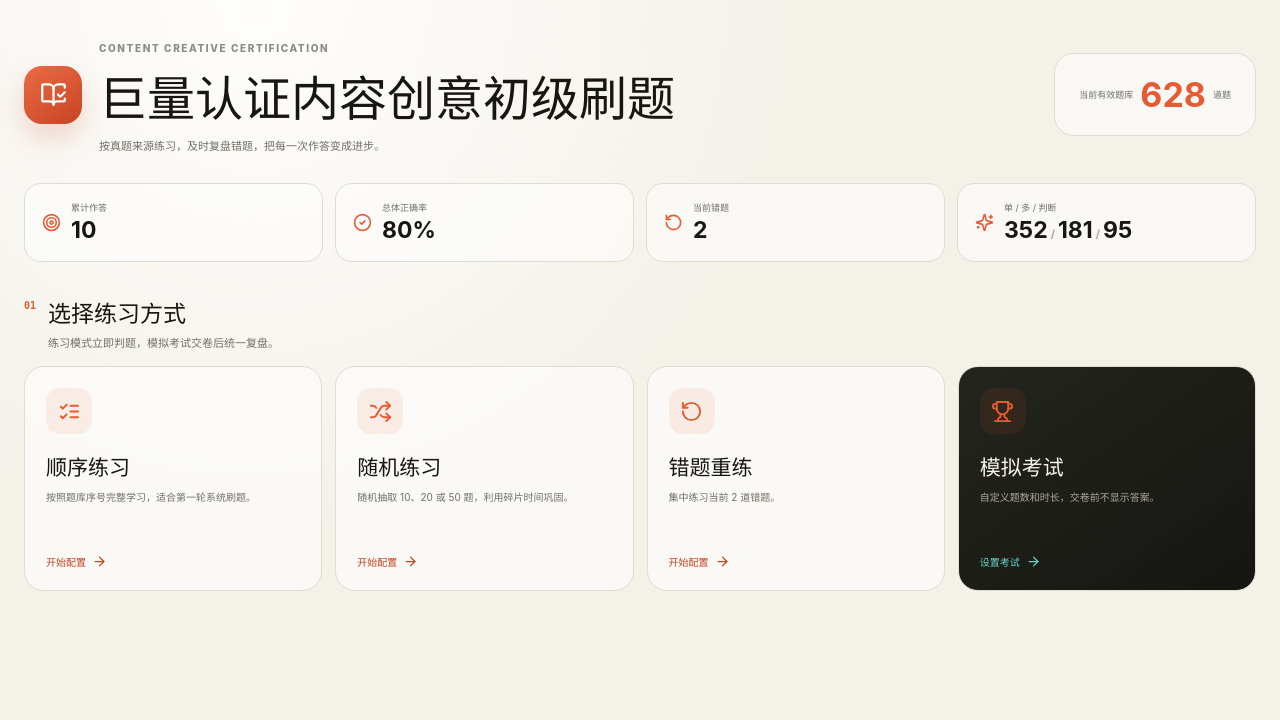
Test: ContentCreativeQuizPage › configures a random practice and reveals feedback after confirmation
Expected: the text "628" is shown, [1140,74,1206,115]
Click the button "随机练习 随机抽取 10、20 或 50 题，利用碎片时间巩固。 开始配置" at (380, 411), box [335,366,634,591]
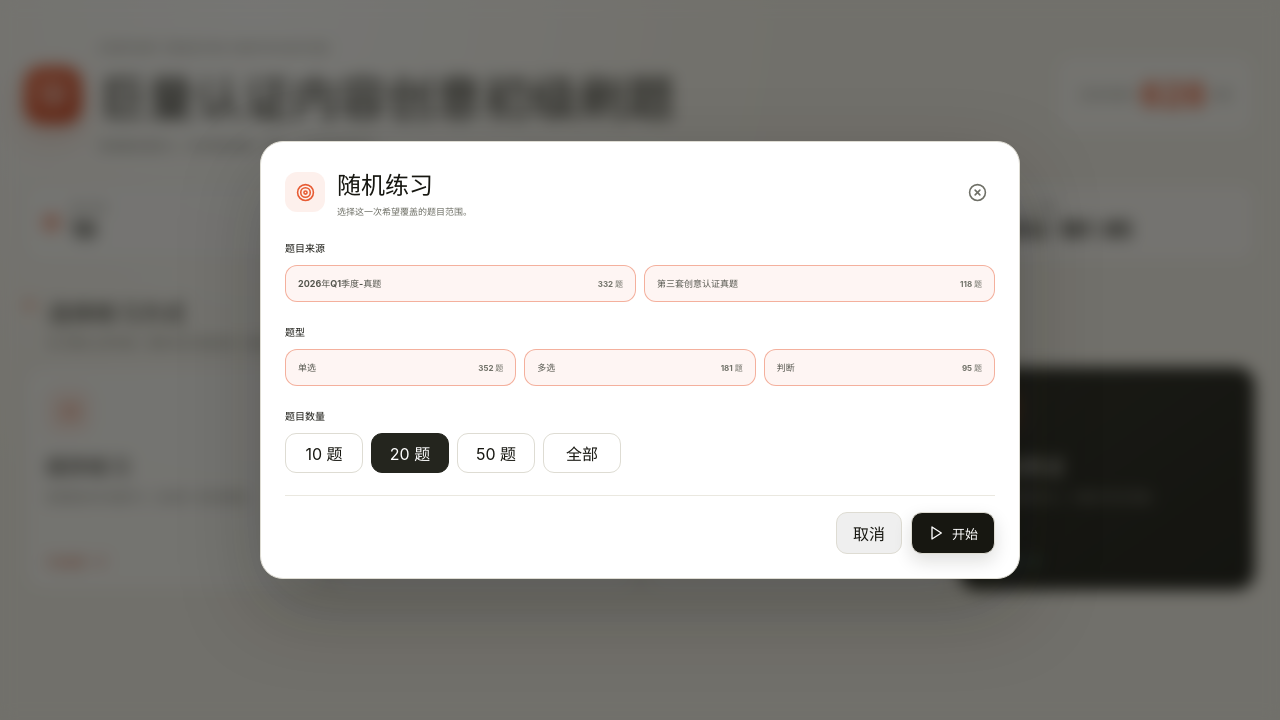
Now the dialog "随机练习" is shown, box [260,141,1020,579]
Click the button "开始" at (953, 533), box [911,512,995,554]
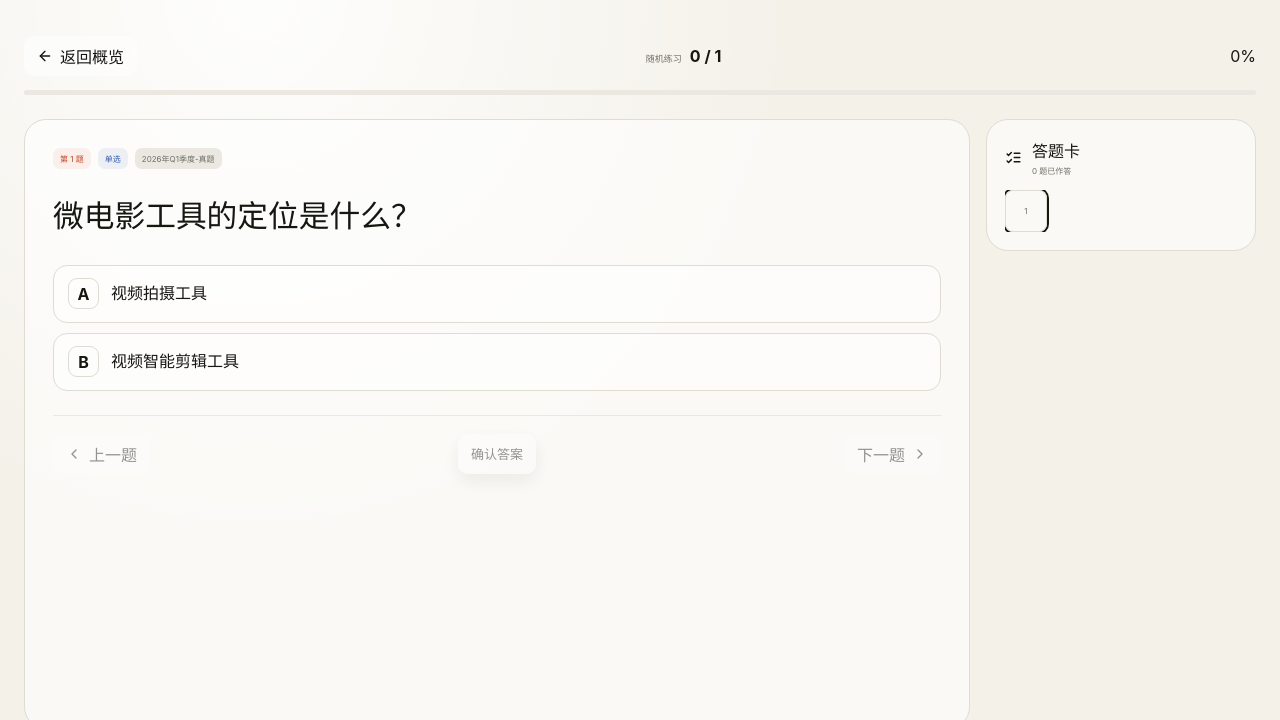
Now the heading "微电影工具的定位是什么？" is shown, box [53,200,422,234]
Click the button "B 视频智能剪辑工具" at (84, 362), box [53,333,941,391]
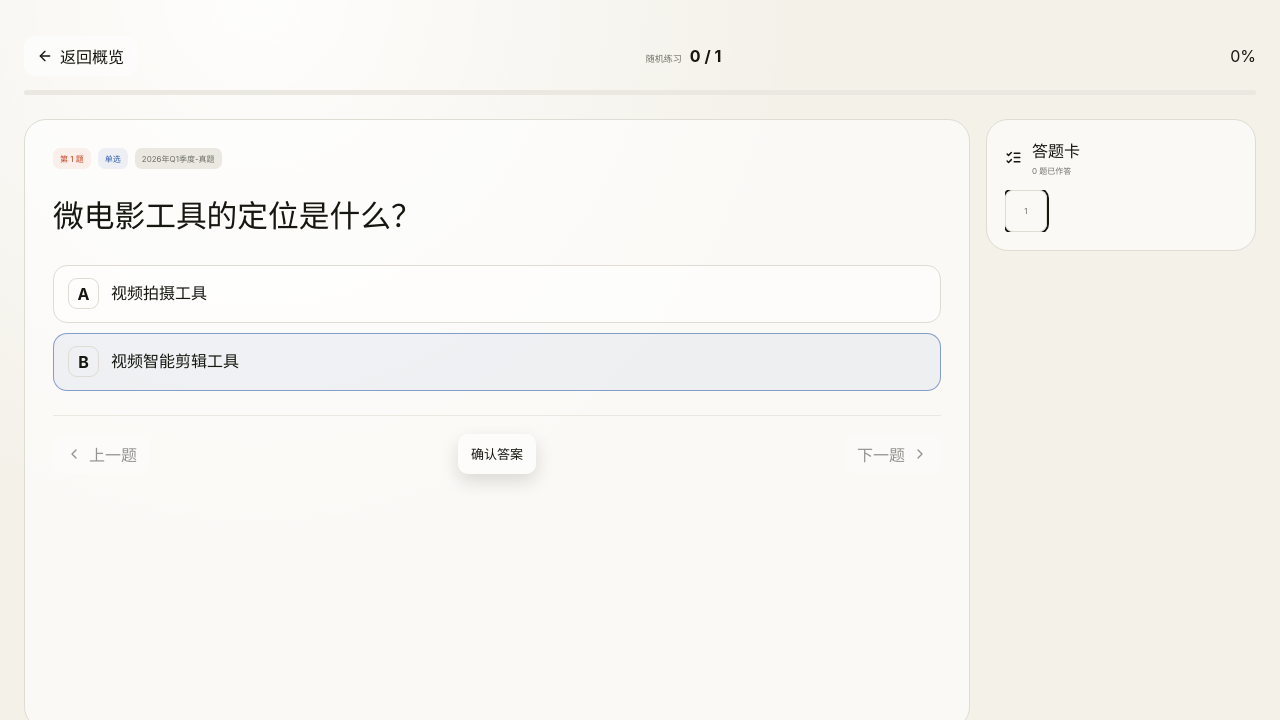
Click the button "确认答案" at (497, 454), box [458,434,536,474]
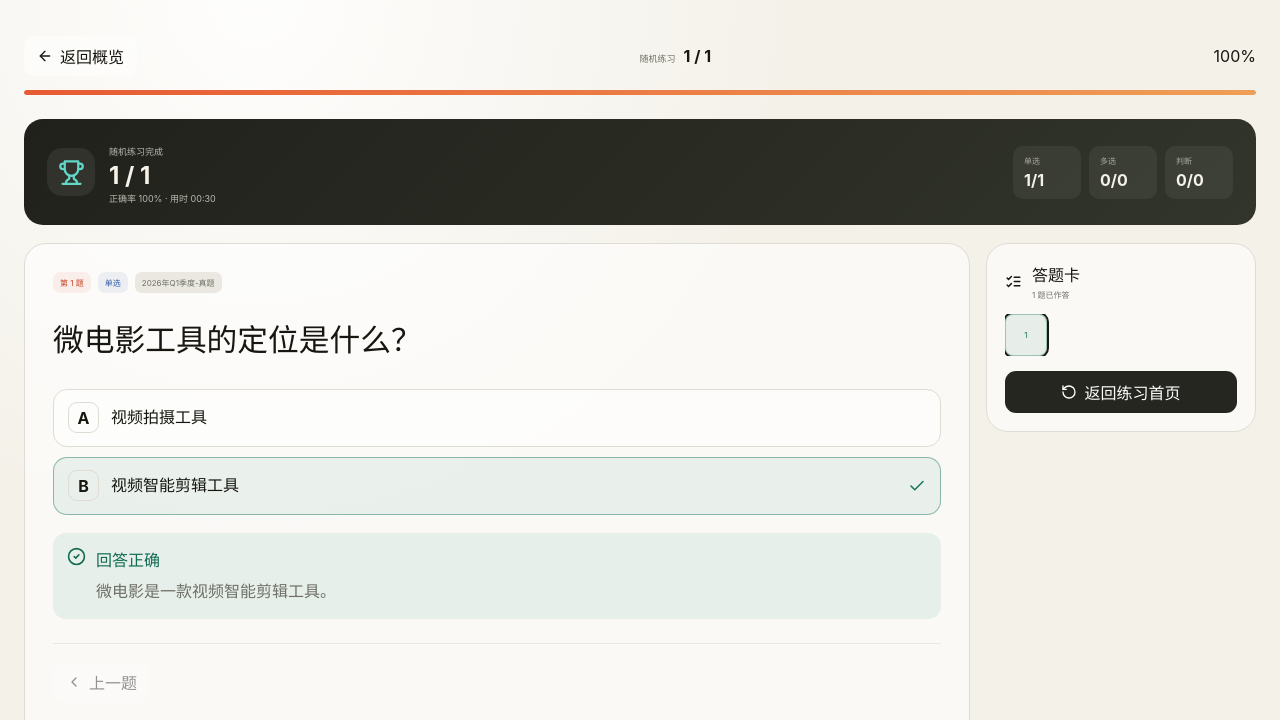
Now the text "回答正确" is shown, box [96,550,160,570]
Now the text "微电影是一款视频智能剪辑工具。" is shown, box [96,578,336,605]
